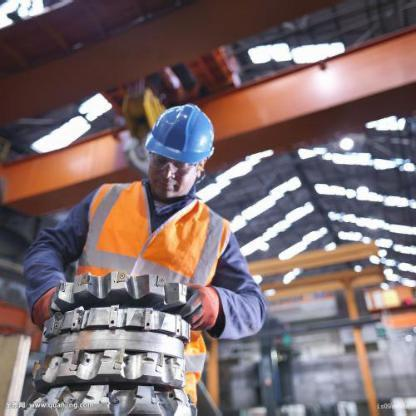helmet: (140, 94, 217, 168)
